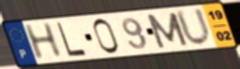0: (92, 17, 121, 55)
9: (121, 17, 149, 50)
H: (21, 21, 65, 62)
L: (55, 21, 89, 58)
M: (144, 11, 191, 50)
U: (173, 6, 214, 48)
